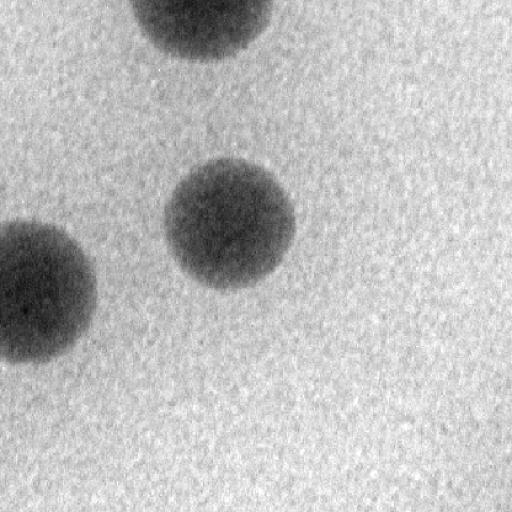Nanoparticles: (160, 153, 302, 294), (0, 214, 104, 366), (127, 0, 279, 67)
